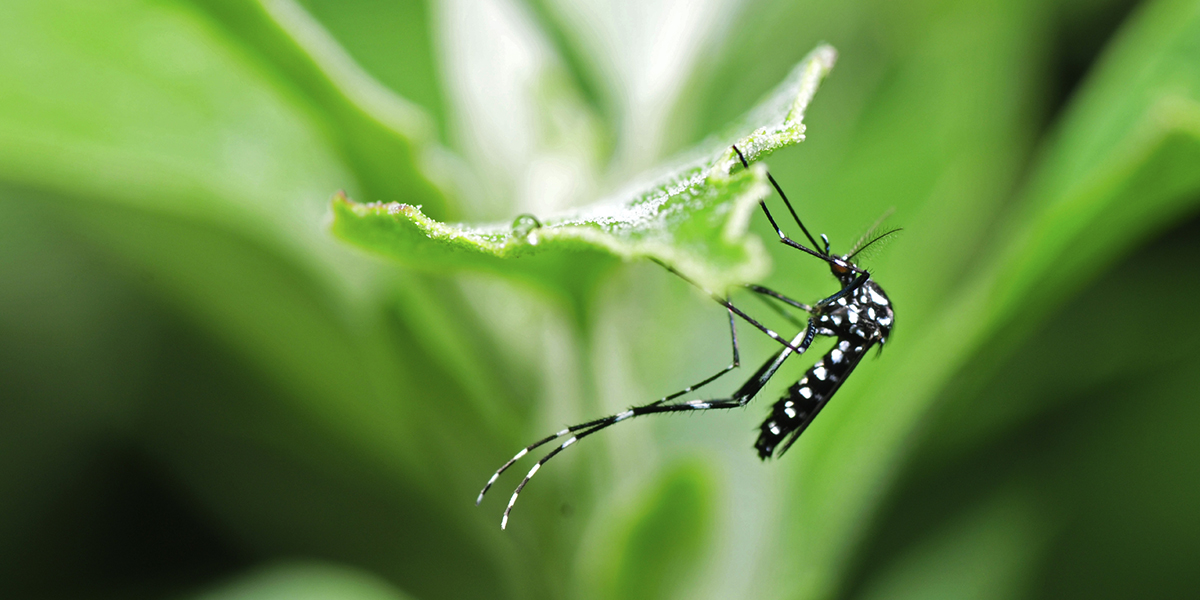mosquito: (497, 150, 991, 529)
